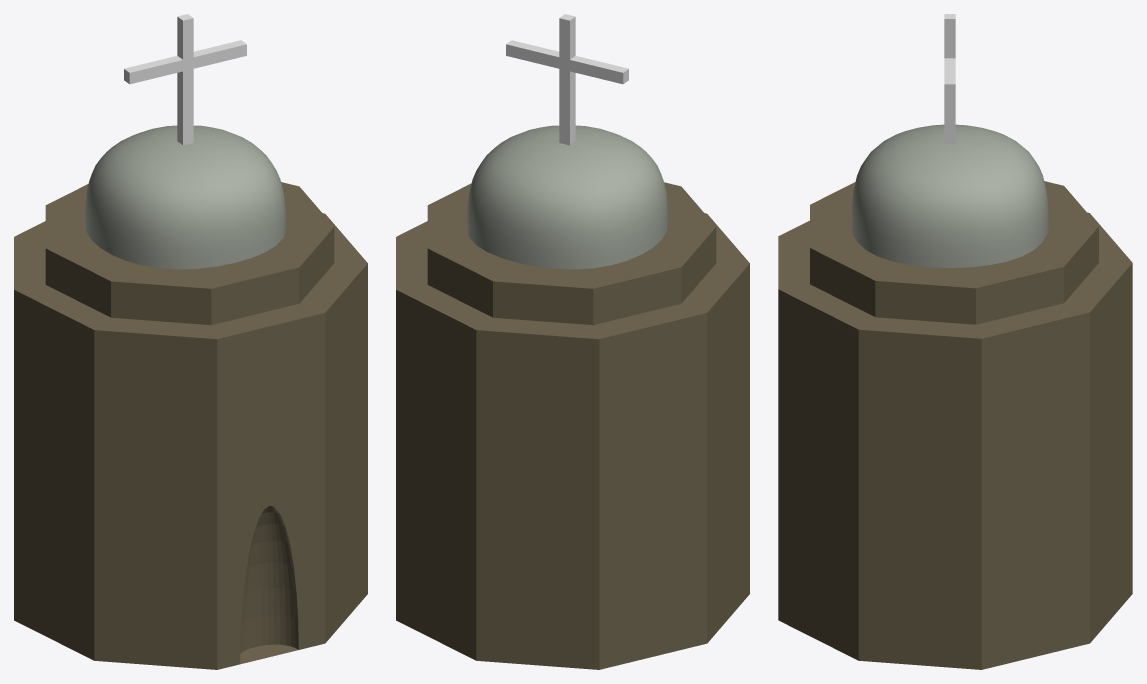
File: Caphel_Colored.fbx
3 renders of one model, left to right at view 1: azimuth 30°, elevation 25°; view 2: azimuth 150°, elevation 25°; view 3: azimuth 270°, elevation 25°, orthographic.
Parts seen in each view (by area): view 1: Cylinder, Cube, Cube.001; view 2: Cylinder, Cube, Cube.001; view 3: Cylinder, Cube, Cube.001.
Boxes of the visible parts, box(x1,y1,x2,y2) form: Cylinder: box(14, 182, 367, 669); Cube: box(84, 125, 286, 269); Cube.001: box(124, 14, 246, 145); Cylinder: box(396, 182, 749, 669); Cube: box(466, 125, 668, 269); Cube.001: box(506, 14, 628, 145); Cylinder: box(778, 181, 1132, 669); Cube: box(851, 124, 1048, 267); Cube.001: box(944, 14, 955, 143).
Size of the model in its own units: 583 by 1032 by 574.
